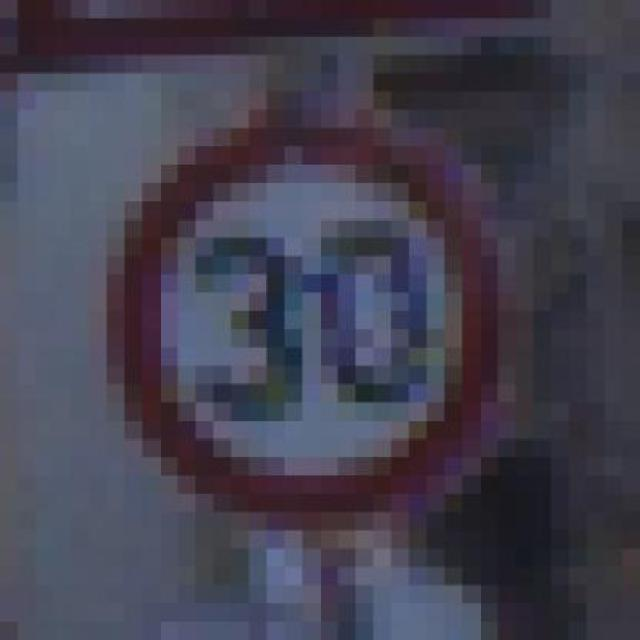Speed Limit 30 KMPh: (53, 128, 552, 549)
